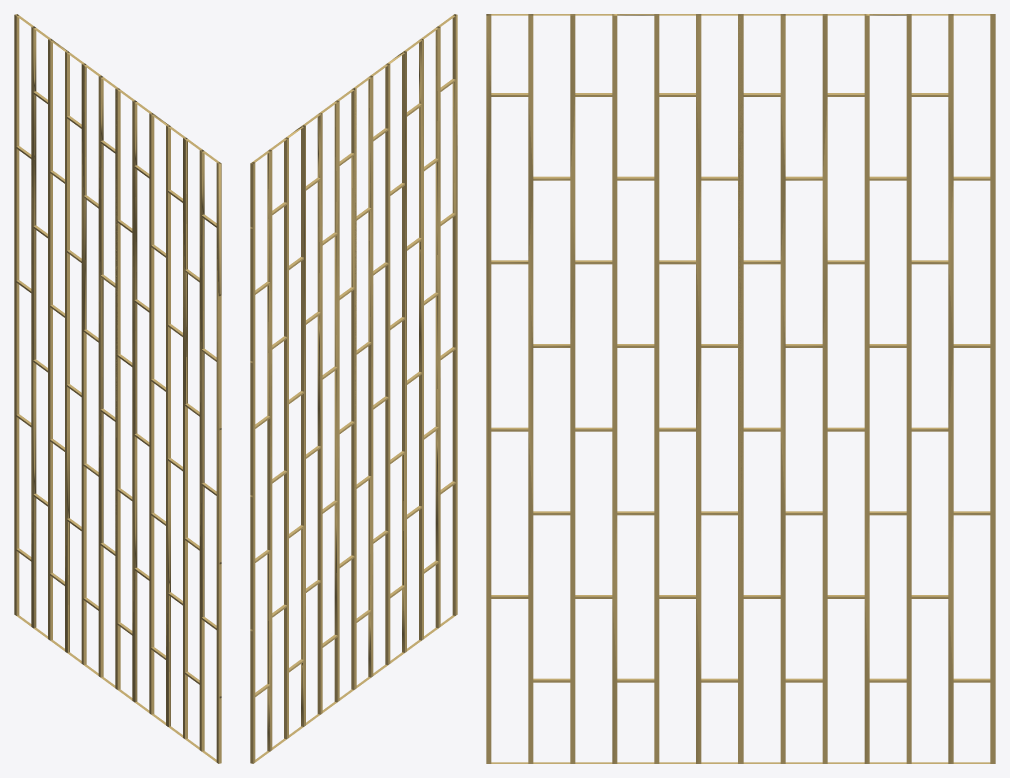
The model's file is doorBlock.fbx.
The picture shows the model from 3 angles, left to right: view 1: azimuth 30°, elevation 25°; view 2: azimuth 150°, elevation 25°; view 3: azimuth 270°, elevation 25°; orthographic projection. The views are drawn at different scales.
Parts seen in each view (by area): view 1: Window2; view 2: Window2; view 3: Window2.
Boxes of the visible parts, bbox=[...] form: Window2: bbox=[14, 14, 221, 763]; Window2: bbox=[250, 14, 457, 763]; Window2: bbox=[486, 14, 995, 763].
Bounding box in the file's own units: 0.6367 × 76.56 × 124.
